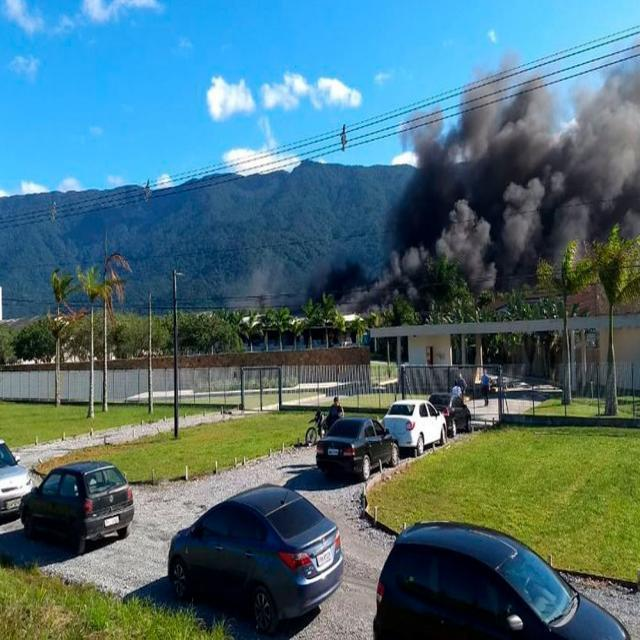Smoke: (381, 54, 640, 302)
